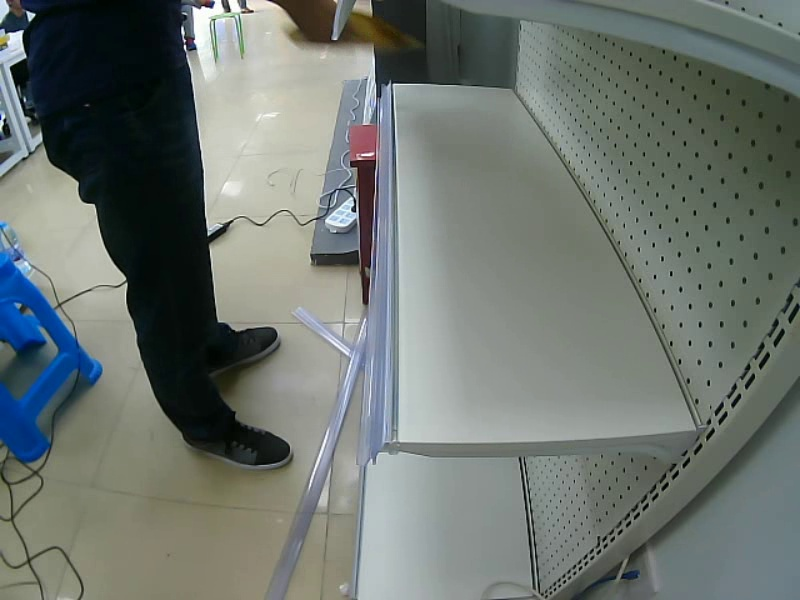bld069: (286, 6, 426, 62)
